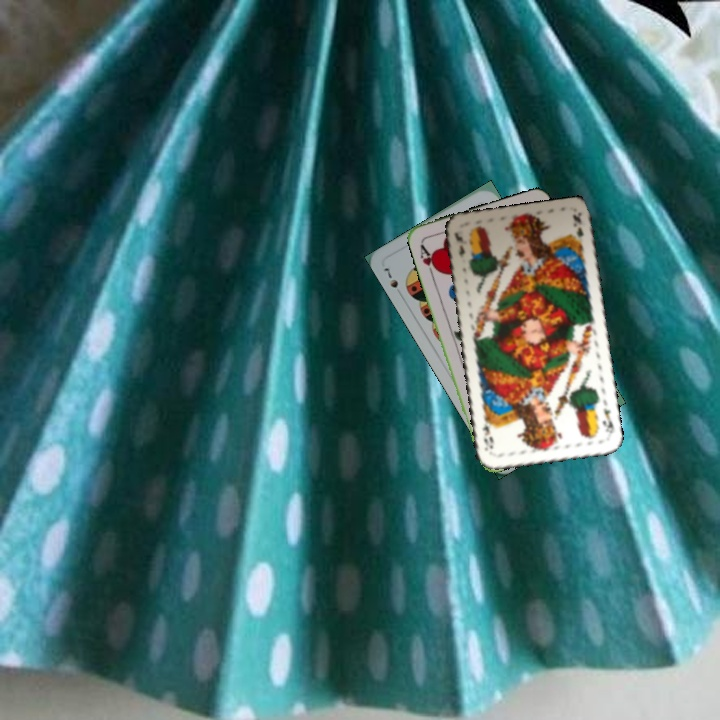EK: (598, 404, 616, 436), (450, 228, 467, 260)
HA: (416, 239, 441, 278)
S7: (379, 263, 401, 290)
